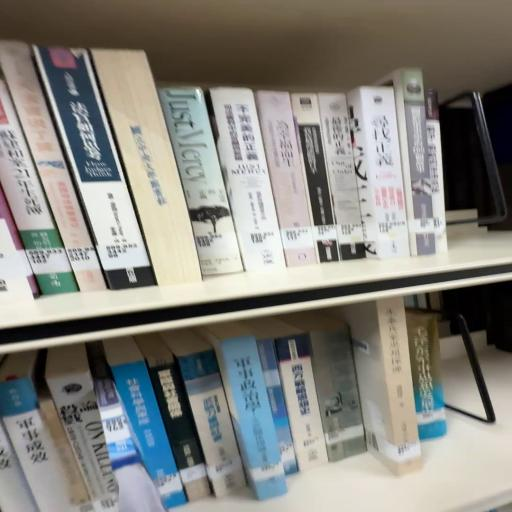backward: (87, 49, 201, 285)
book: (34, 44, 160, 287), (95, 46, 202, 284), (335, 80, 408, 258)
